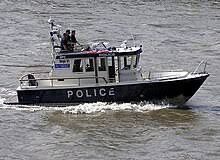boat: (15, 17, 209, 108)
